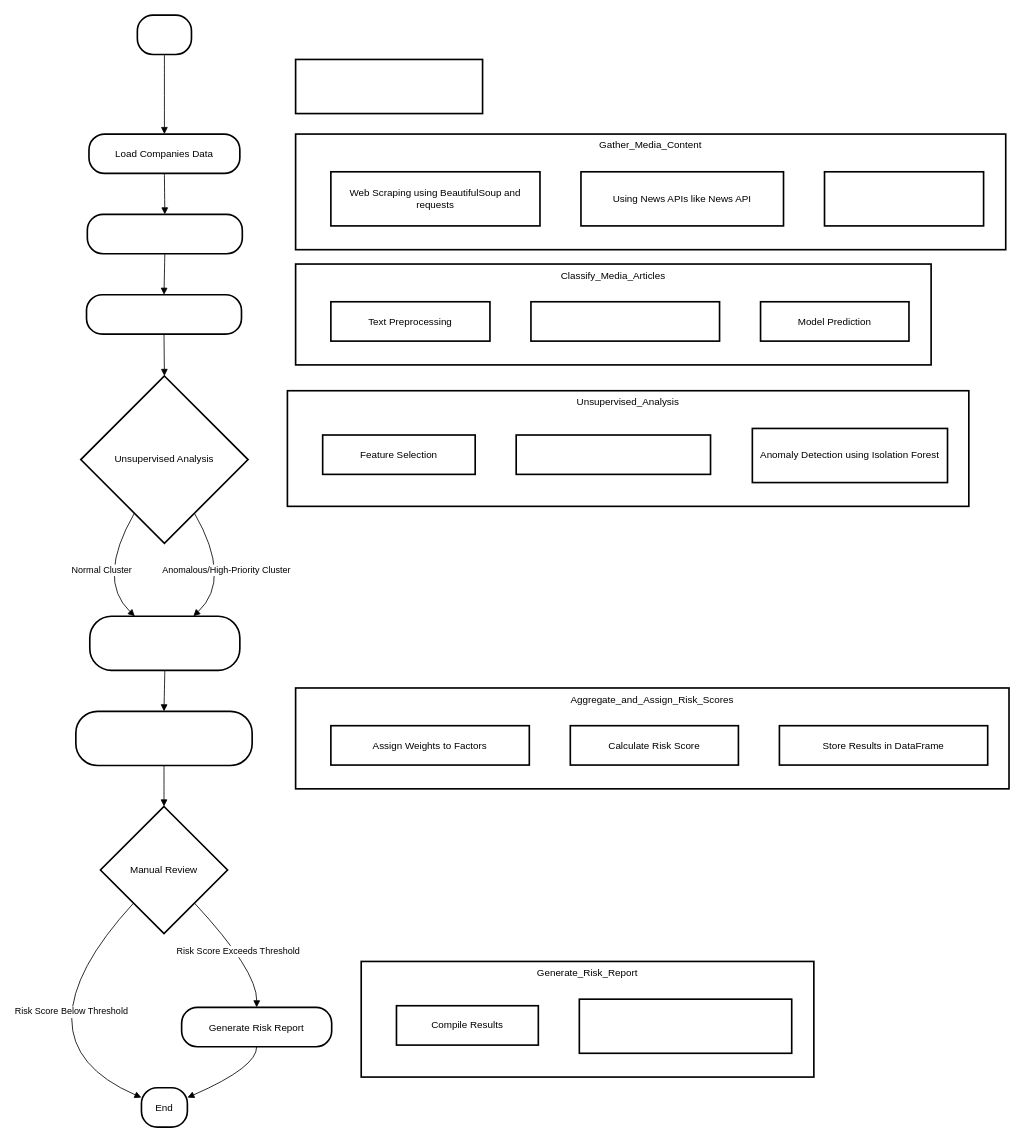
The diagram is 1023 pixels wide and 1141 high, and some of its shapes have lost their labels. The shapes that lost their labels are listed below. From the top down, each one's centre as x and y in pixels, then its label:
At [164,34]: "Start".
At [388,86]: "Load dataset from Excel/CSV using Pandas".
At [903,198]: "Error Handling and Deduplication".
At [164,233]: "Gather Media Content".
At [163,314]: "Classify Media Articles".
At [625,321]: "Model Training Optional".
At [613,454]: "Clustering using K-Means".
At [164,643]: "Select Companies for Further Analysis".
At [164,738]: "Aggregate and Assign Risk Scores".
At [685,1026]: "Generate PDF/HTML Report using Jinja2".
